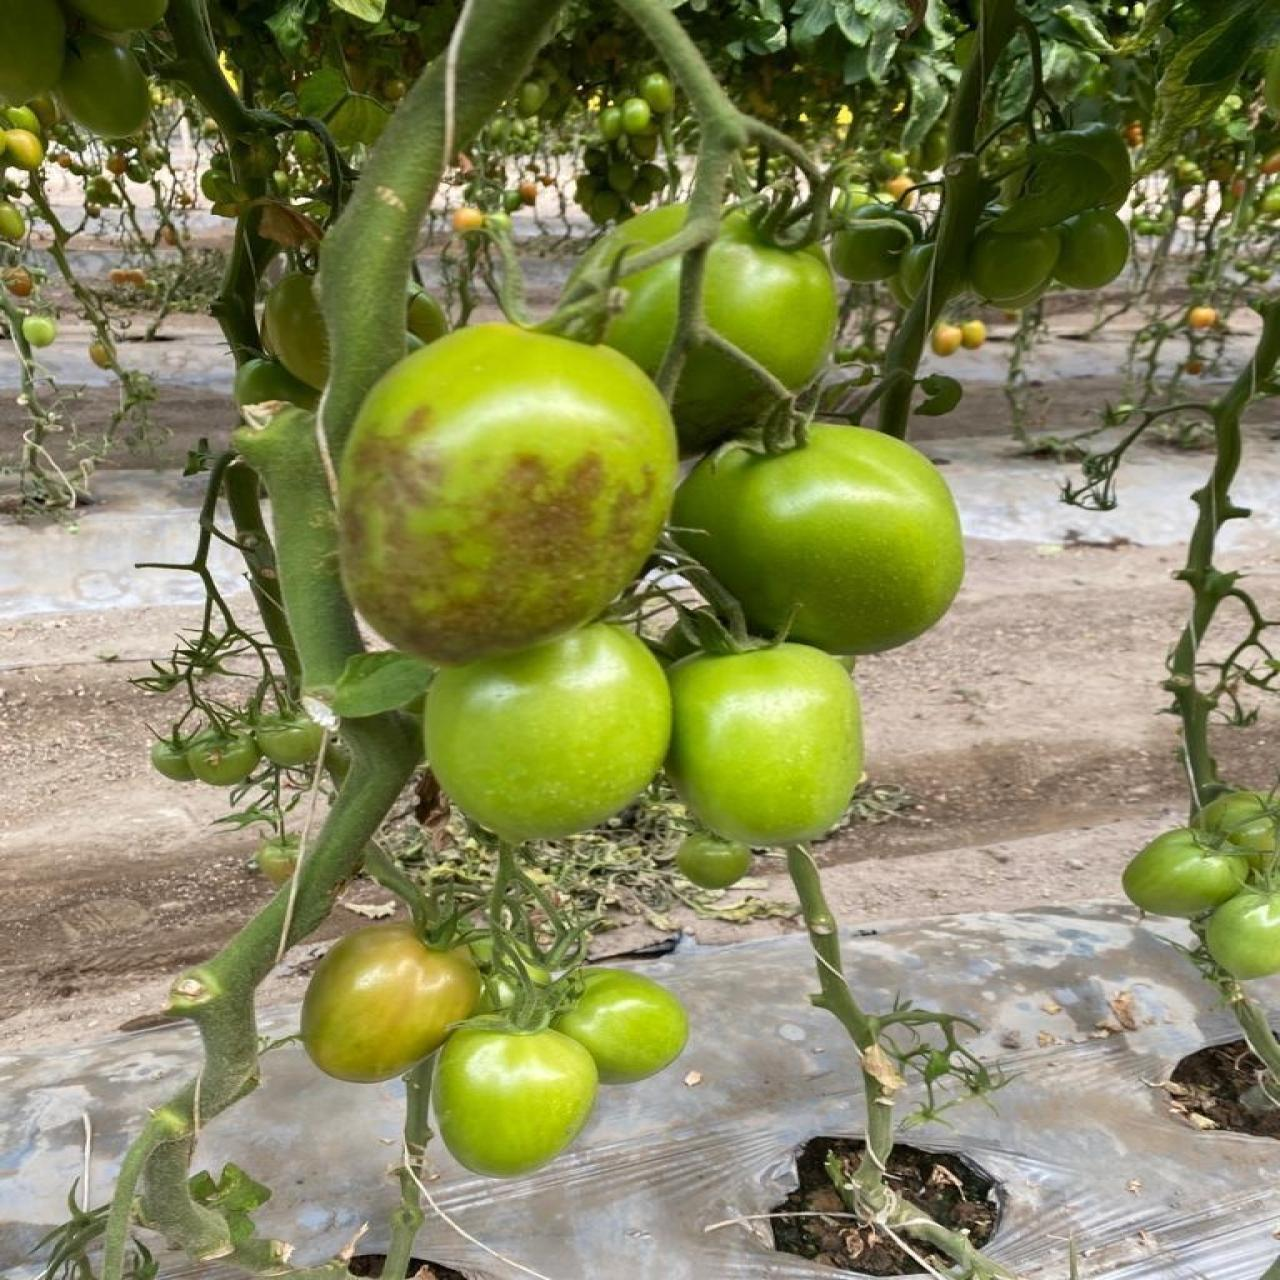T_F_H: (668, 421, 966, 663), (421, 625, 673, 845), (668, 645, 864, 850), (431, 1020, 601, 1180), (553, 971, 689, 1089), (1124, 829, 1251, 919), (1208, 894, 1280, 981)
T_F_R: (334, 324, 686, 670), (568, 206, 838, 454), (301, 925, 483, 1087)
T_S_R: (138, 714, 421, 1259), (318, 1, 566, 459)
